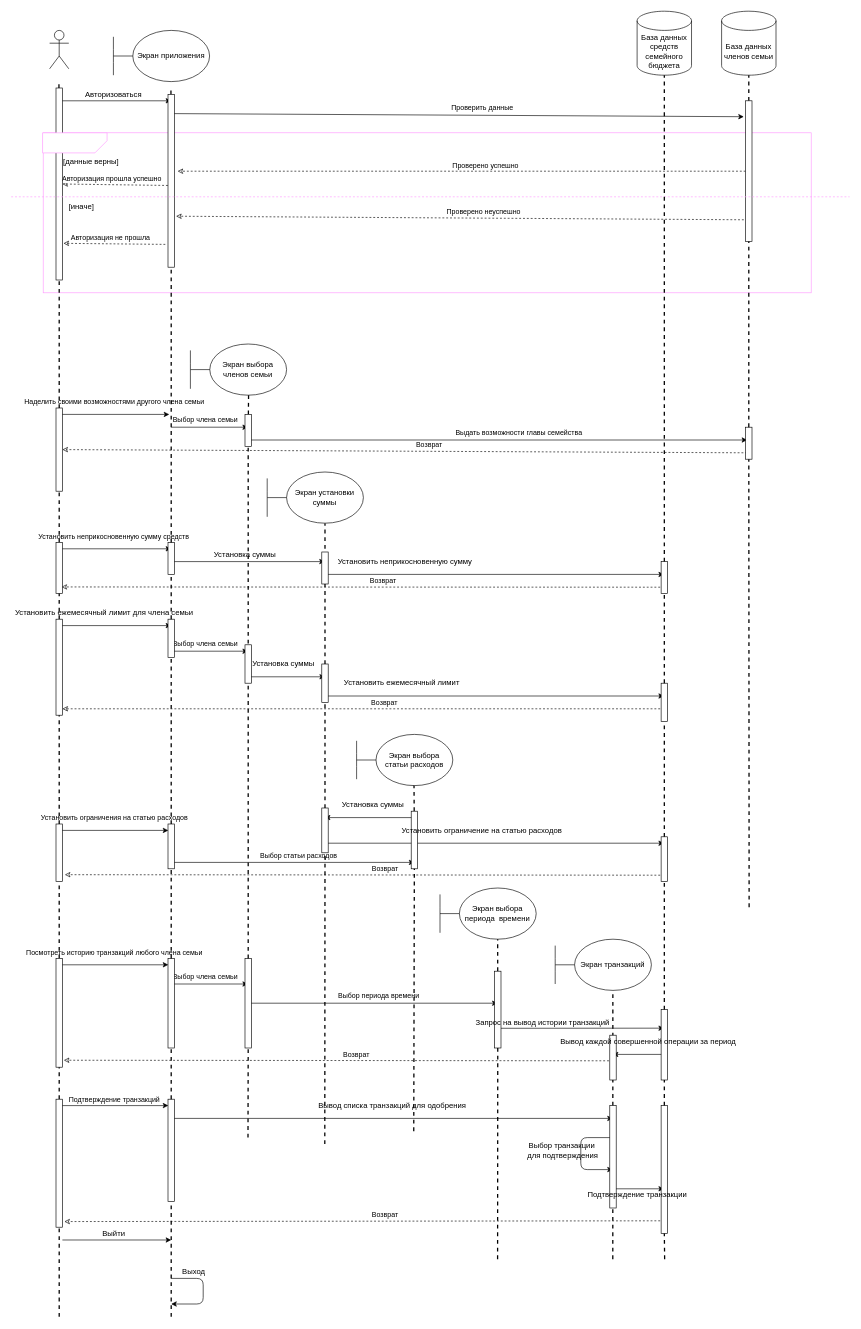
This 861x1329 diagram has some shape labels left out. Each missing label, with the centre of its shape:
альтернатива: point (74, 142)
Глава семьи: point (59, 49)
